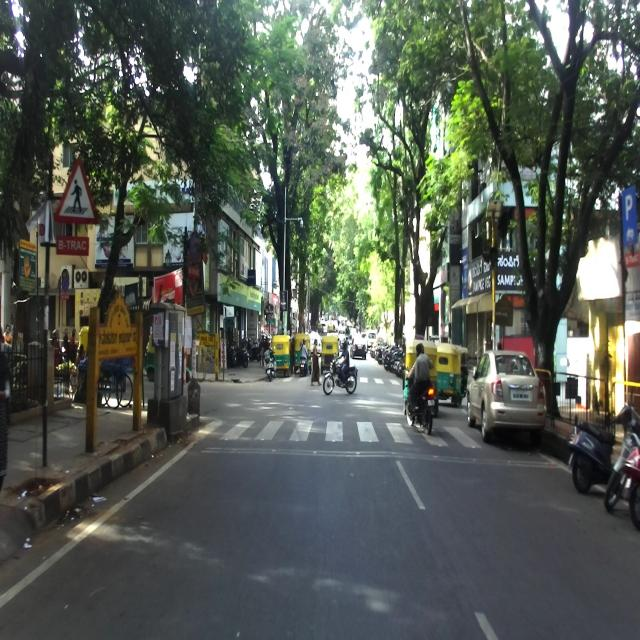car: (465, 349, 546, 448)
motorcycle: (403, 366, 437, 434)
scooter: (567, 402, 640, 493)
